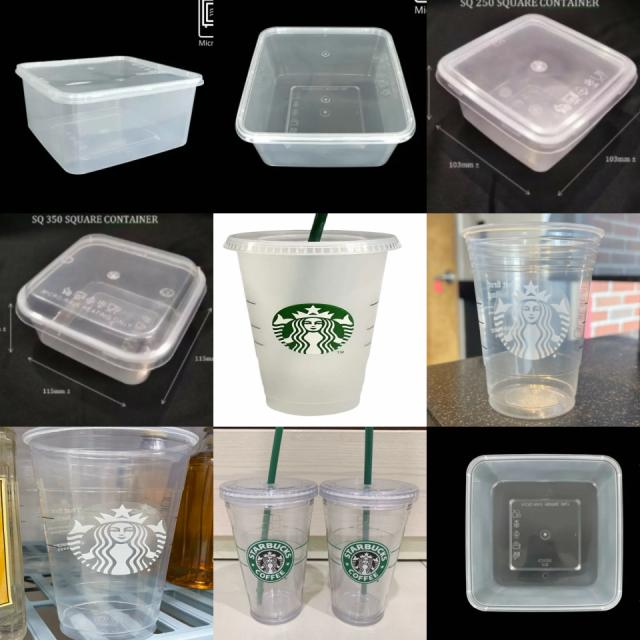Single-Use-Plastic: (24, 428, 198, 640), (224, 230, 401, 415), (436, 14, 638, 171), (16, 234, 205, 383), (464, 222, 604, 419), (236, 28, 415, 167), (468, 455, 622, 611), (16, 56, 204, 174), (219, 428, 319, 623), (320, 478, 419, 625)
